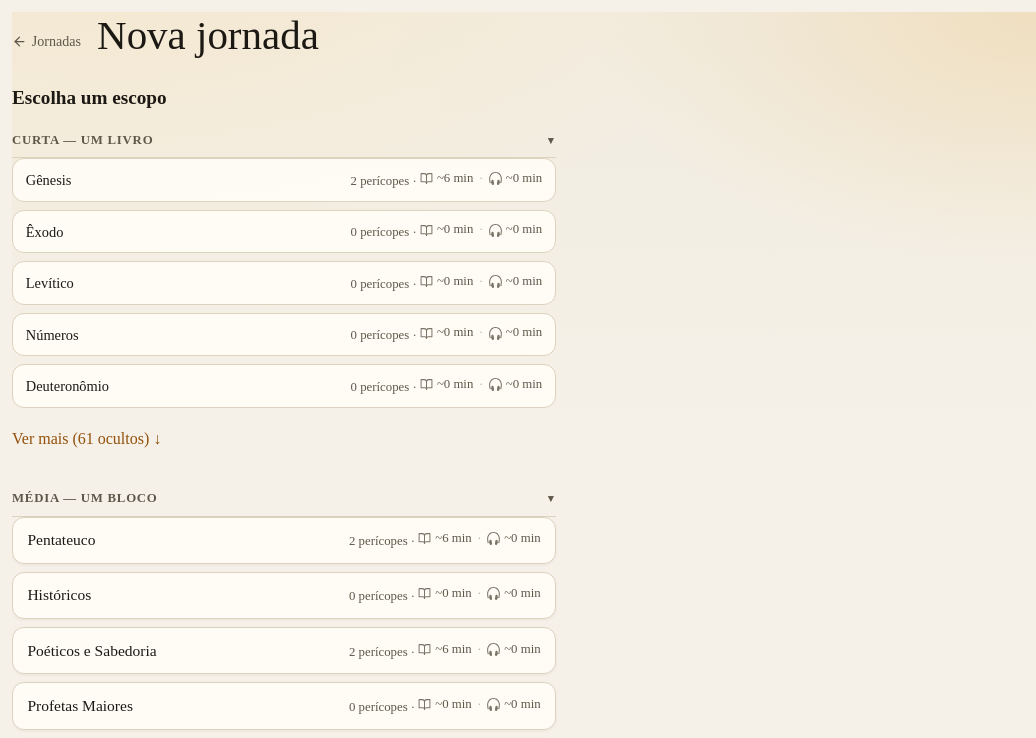
Test case: NovaJornada — passo 2: confirmação › modo Continuar com o escopo já todo lido: avisa
Click the button with class "jornada-escopo" that starts with "Gênesis".
click(49, 180)  # box [12, 158, 556, 202]
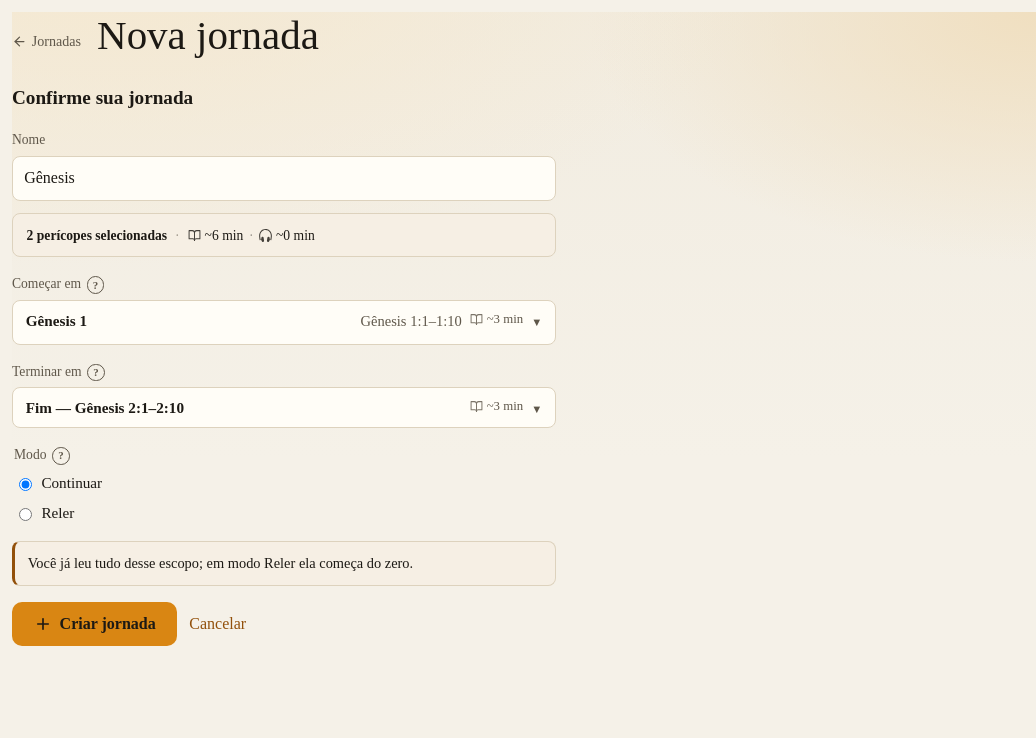
Result: the text "Você já leu tudo desse escopo" is shown at [28, 555, 413, 571]
